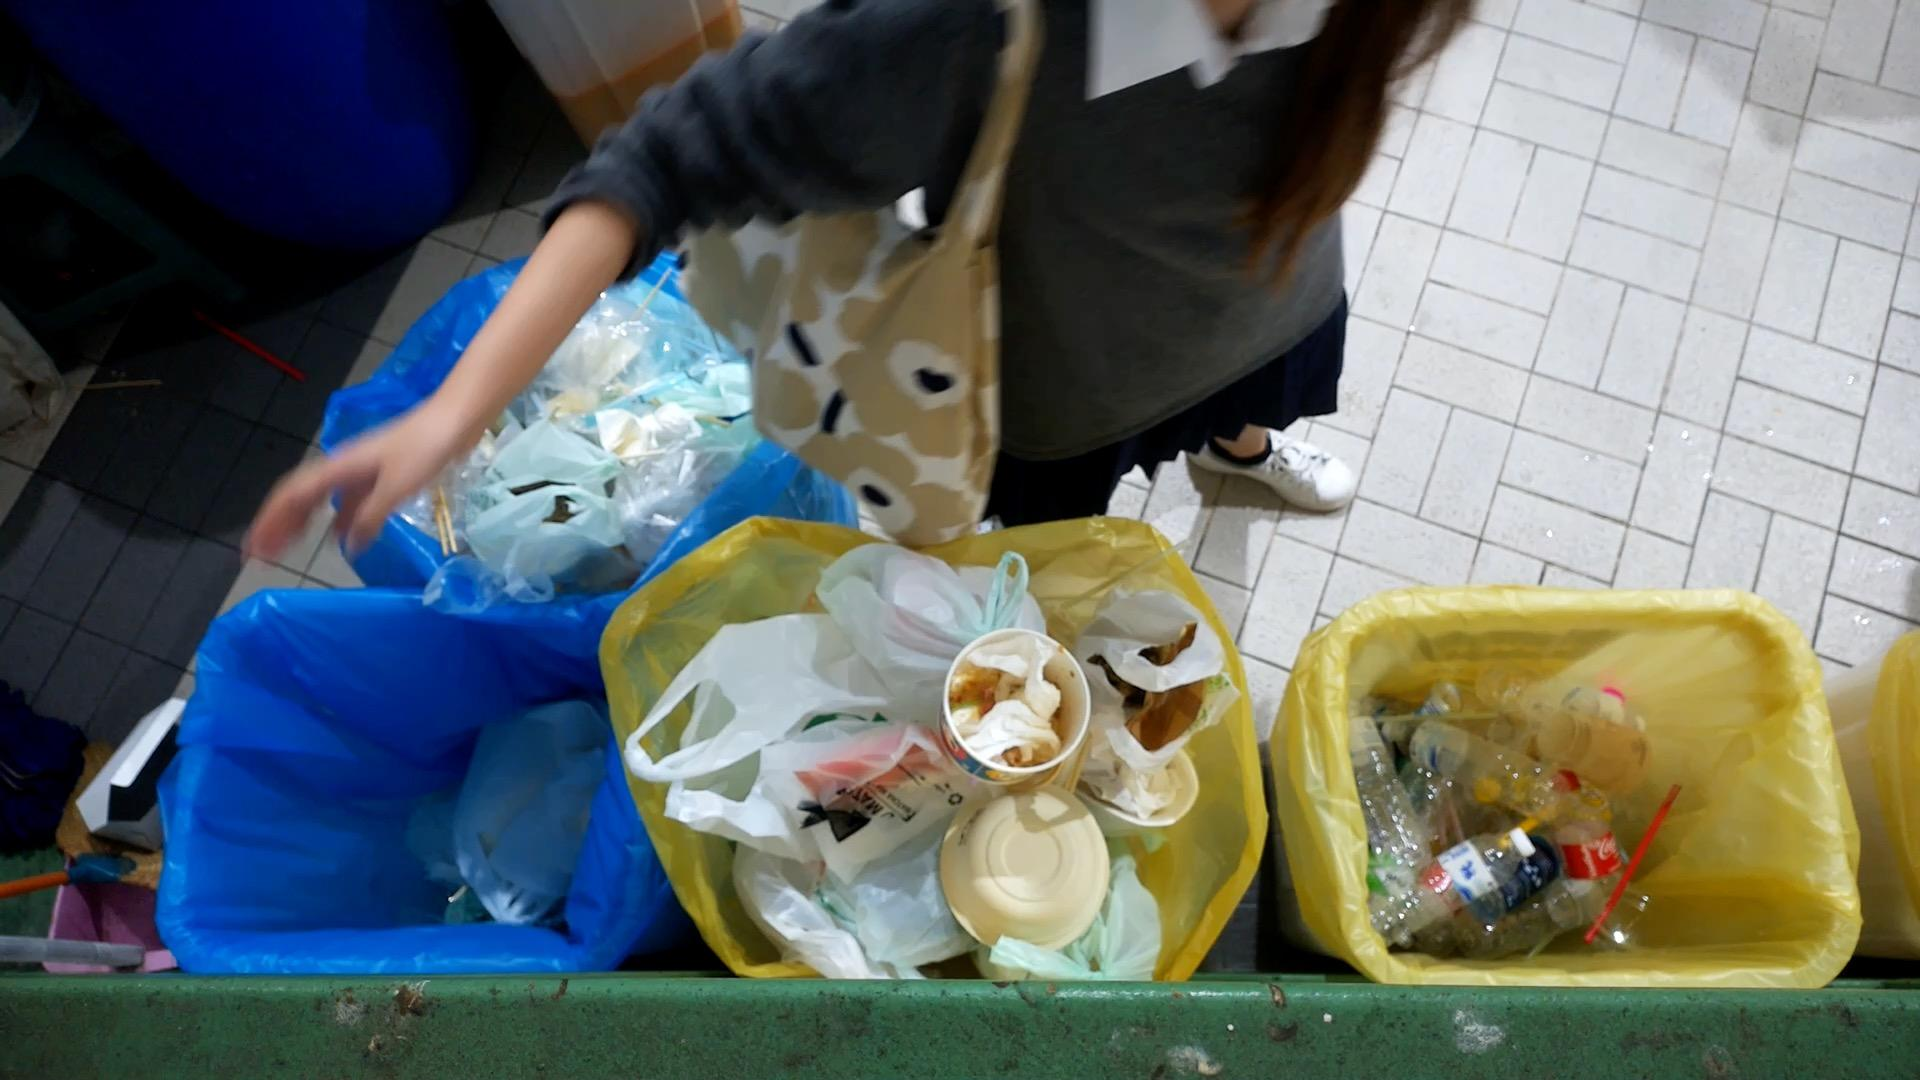filled plastic bag: (620, 599, 873, 894), (819, 543, 1048, 733), (758, 712, 1006, 874), (964, 832, 1159, 1006), (443, 699, 608, 901), (1071, 589, 1242, 767), (463, 415, 616, 600)
food container: (936, 786, 1112, 953), (935, 626, 1091, 787)
plastic bag: (526, 274, 679, 431), (625, 427, 742, 560), (683, 342, 810, 442)
plastic bottle: (1385, 716, 1568, 825), (1369, 827, 1536, 942), (1350, 704, 1440, 870), (1474, 654, 1651, 735), (1549, 766, 1629, 926)
plastic cup: (1535, 707, 1689, 814)
sticks: (433, 491, 472, 567)
straw: (1584, 783, 1683, 943)
tissue paper: (973, 642, 1063, 760), (589, 401, 700, 456), (1095, 750, 1185, 814)
